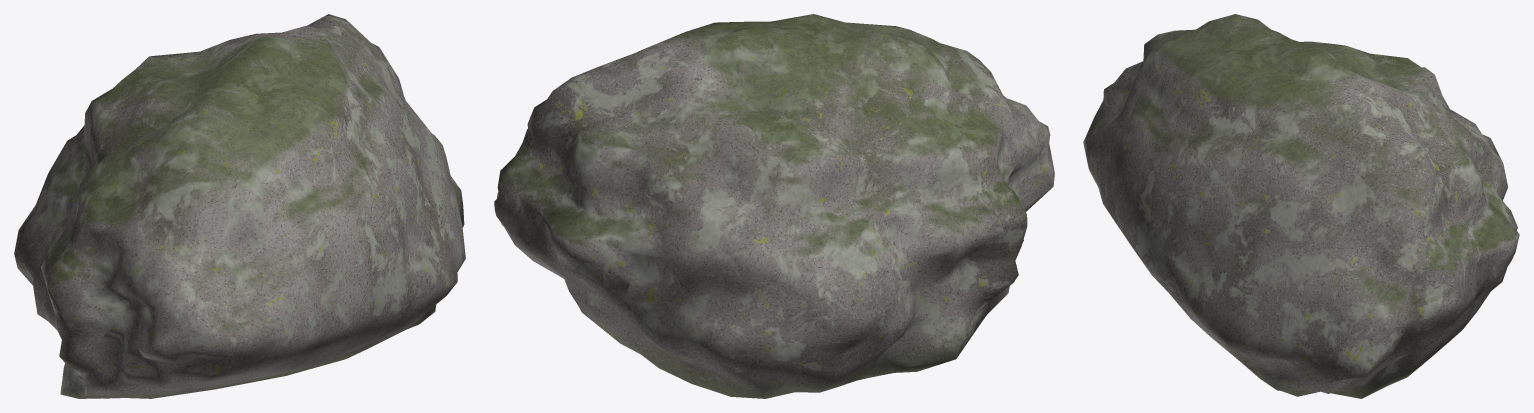
File: boulder_400_LOD0.glb
3 renders of one model, left to right at view 1: azimuth 30°, elevation 25°; view 2: azimuth 150°, elevation 25°; view 3: azimuth 270°, elevation 25°, orthographic. The views are drawn at different scales.
Parts seen in each view (by area): view 1: Boulder_400_LOD0; view 2: Boulder_400_LOD0; view 3: Boulder_400_LOD0.
Part boxes in pixels (x1,y1,x2,y2): Boulder_400_LOD0: (14, 14, 465, 398); Boulder_400_LOD0: (494, 14, 1054, 398); Boulder_400_LOD0: (1083, 14, 1519, 398).
Bounding box in the file's own units: 3.74 × 2.37 × 3.18.
1 material, 1 textured.
